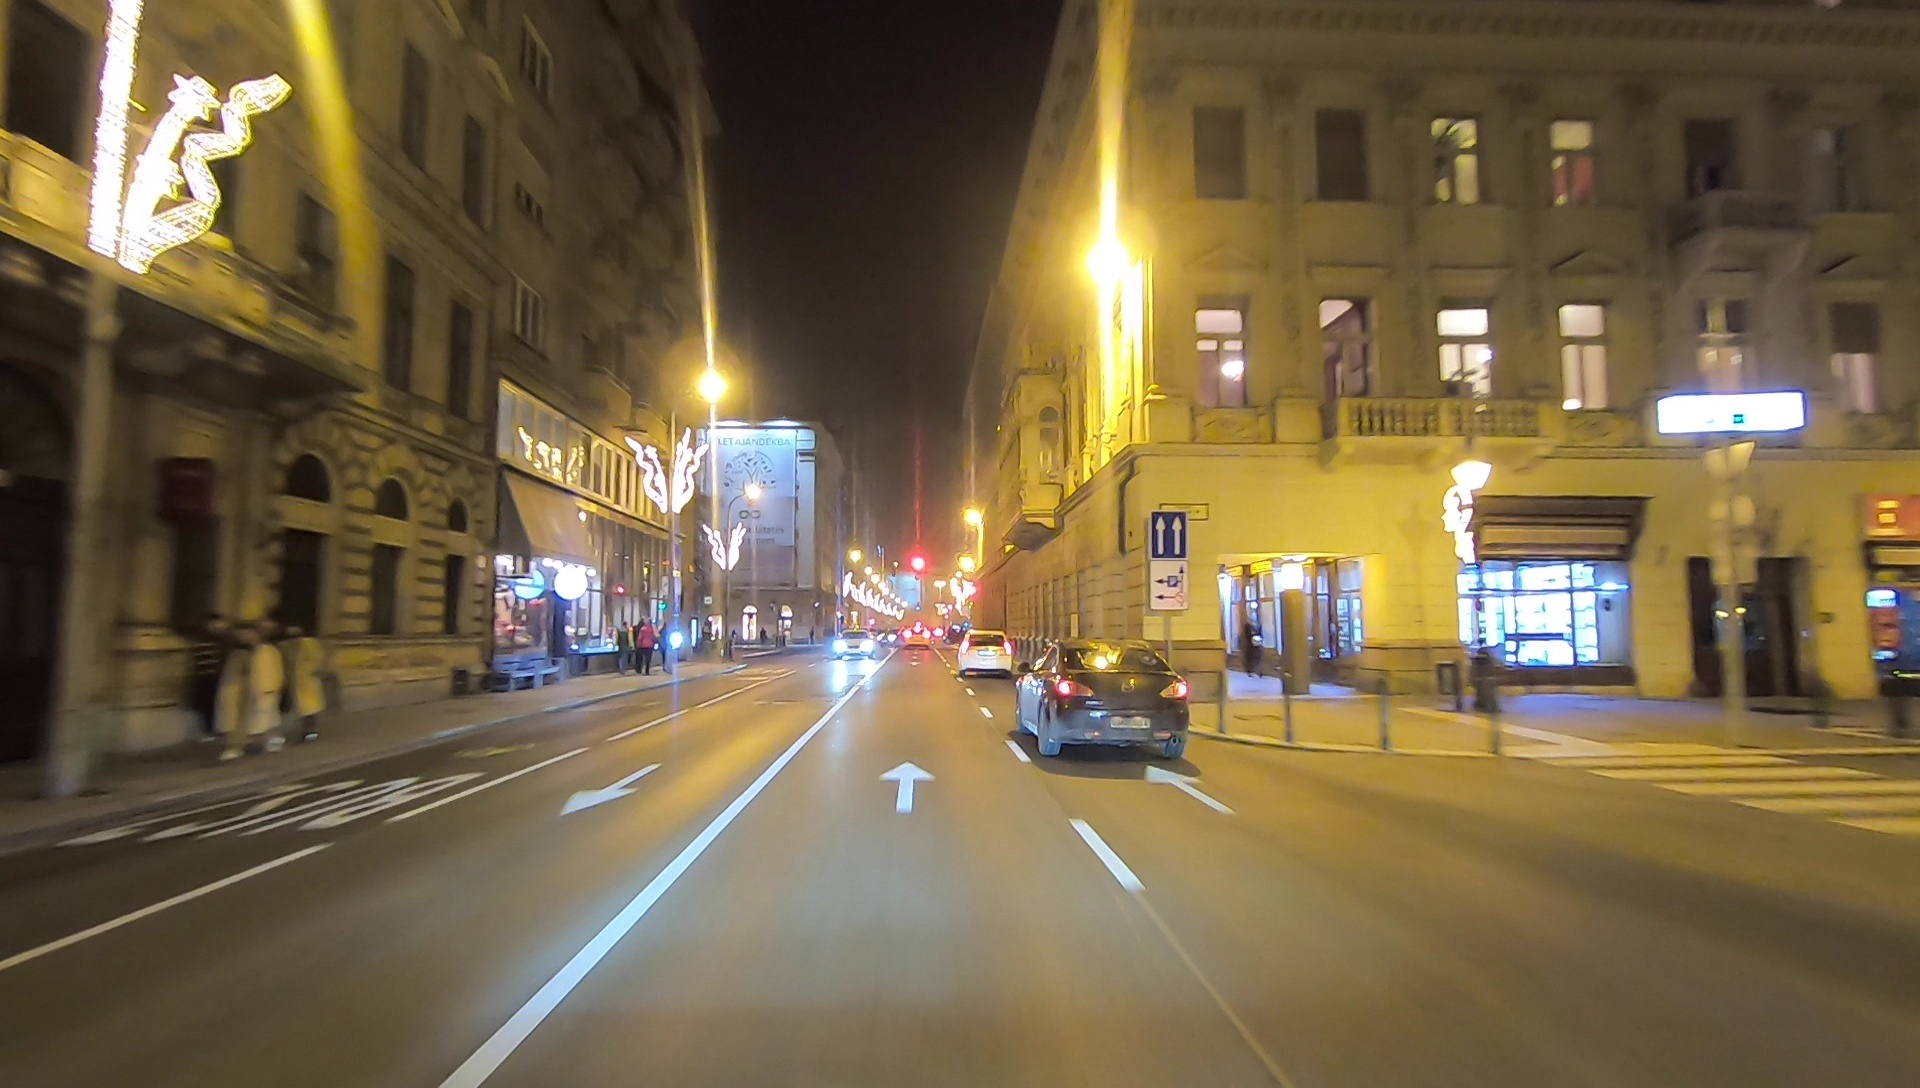person: (273, 623, 326, 754), (226, 628, 276, 763), (193, 611, 238, 752)
